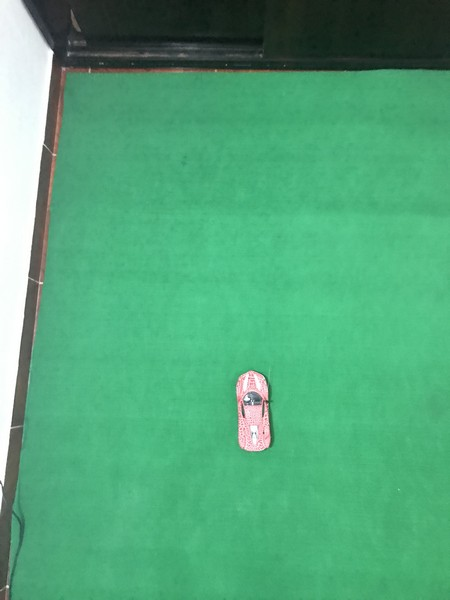RC: (234, 369, 277, 454)
